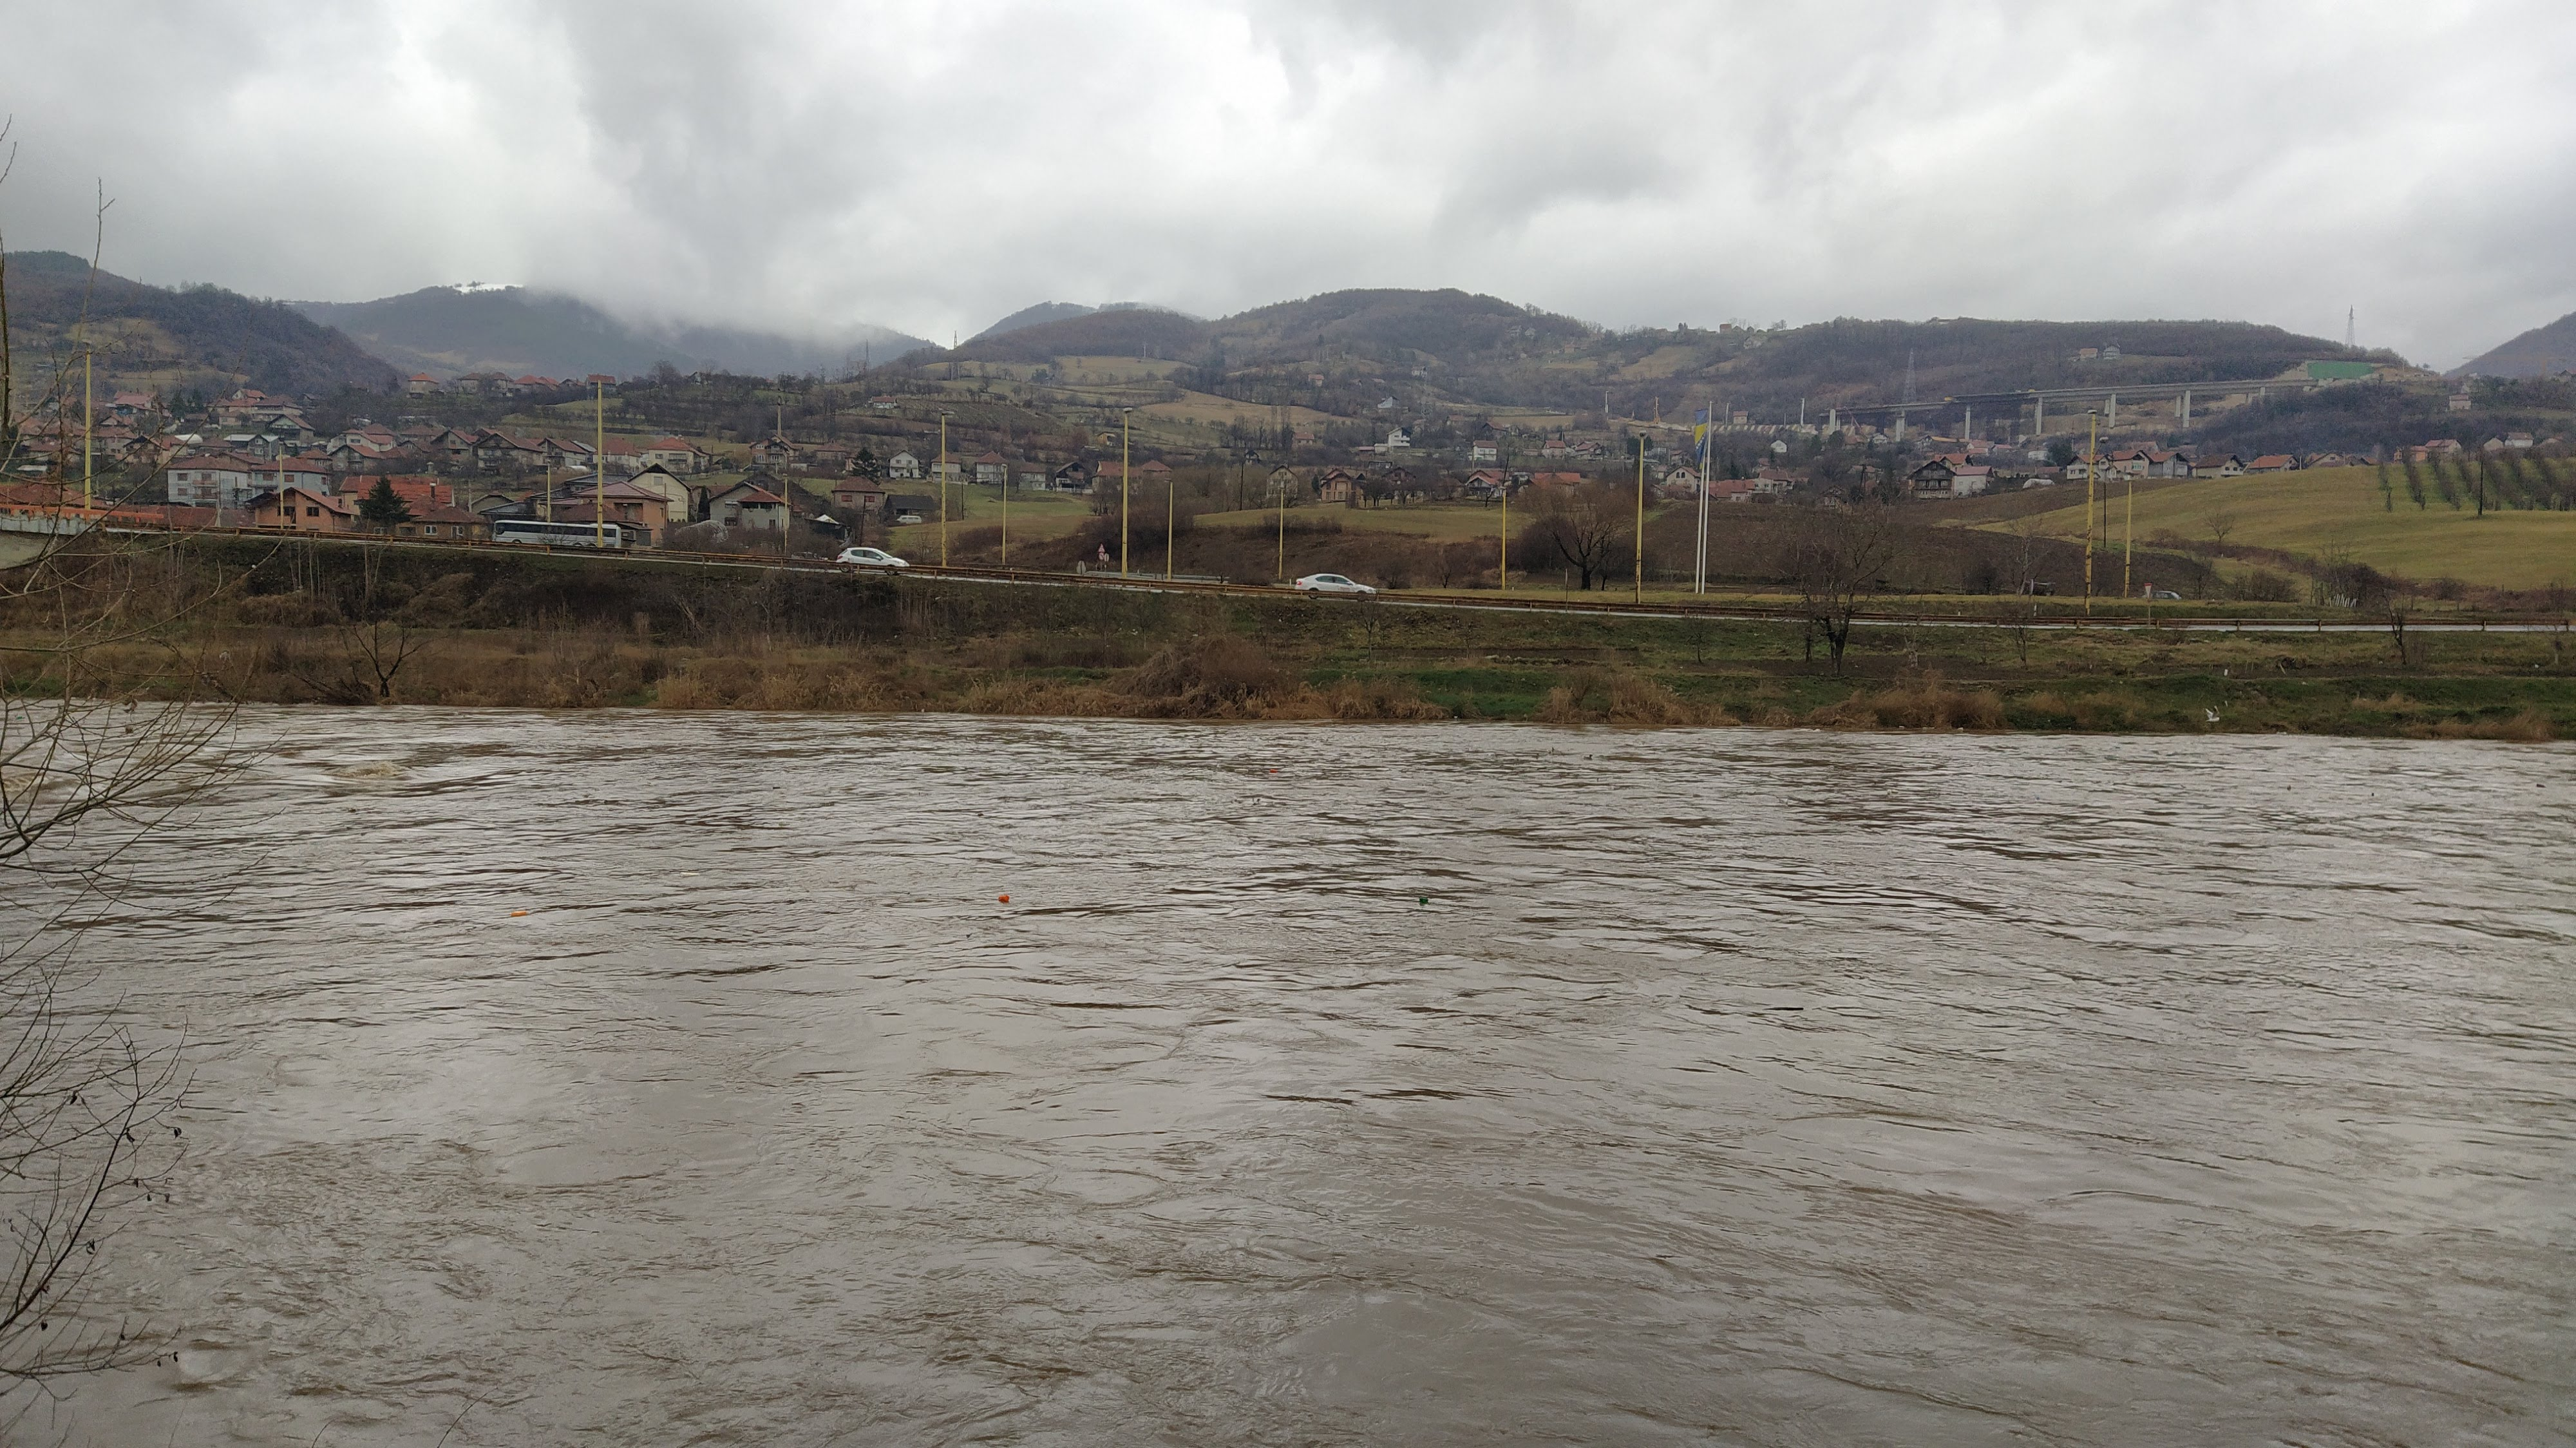Plastic Bottle: (681, 871, 699, 878), (511, 910, 527, 915), (1000, 894, 1010, 901), (2535, 782, 2546, 788), (1421, 897, 1428, 901), (16, 715, 21, 719), (1272, 768, 1276, 772)
